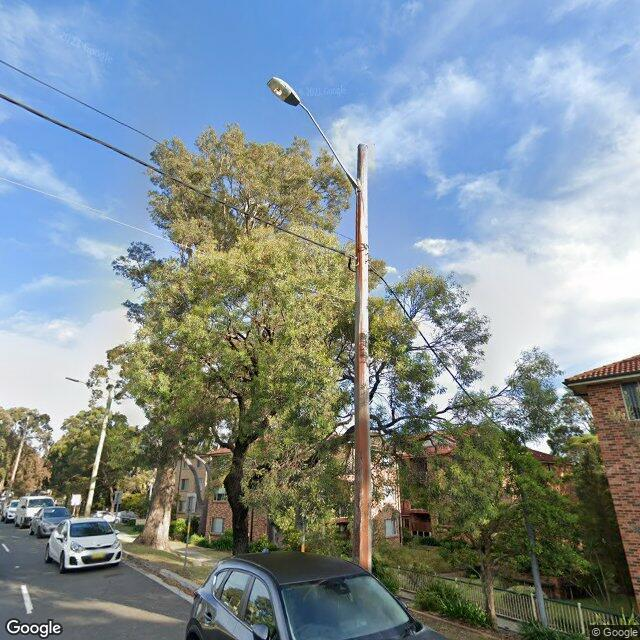streetlight: (268, 75, 360, 193), (65, 377, 108, 401)
timber-pole: (354, 143, 372, 572), (84, 390, 114, 518), (10, 428, 28, 483)
